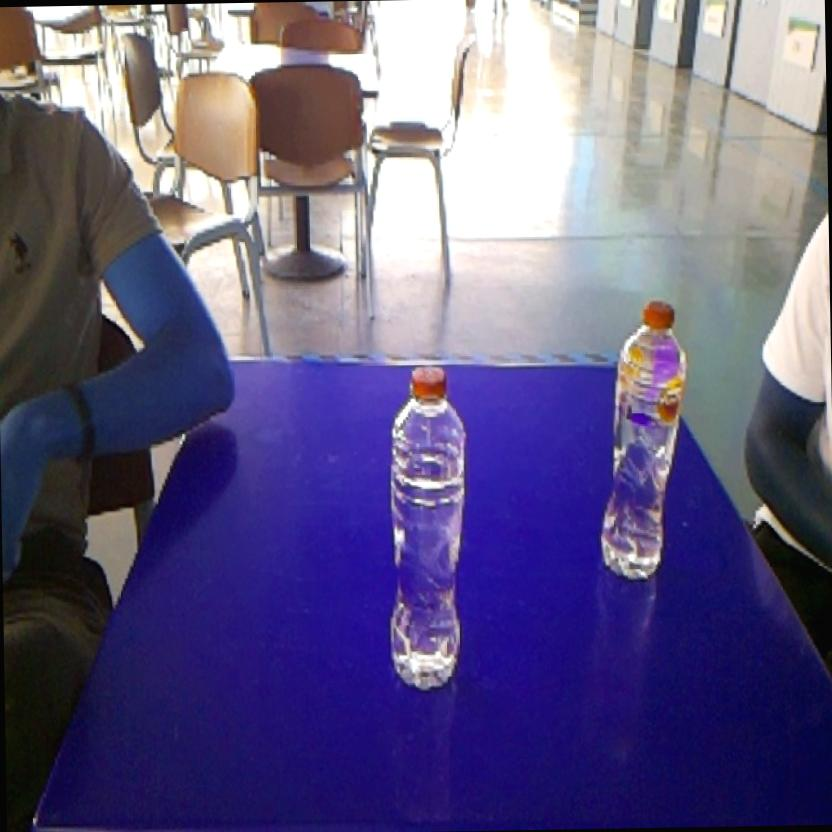good: (591, 284, 694, 588)
no_label: (378, 360, 478, 704)
